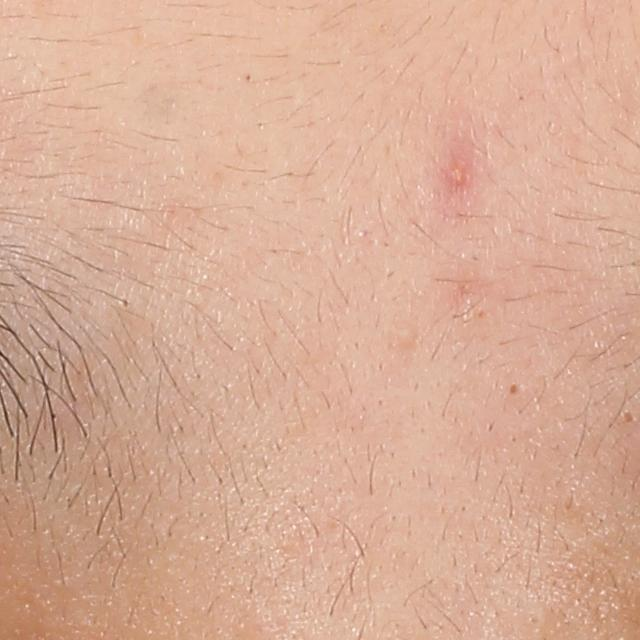comedo: (523, 606, 552, 637), (394, 322, 418, 349), (614, 406, 640, 429), (505, 378, 526, 402), (118, 296, 137, 315)
papule: (436, 155, 469, 197)
